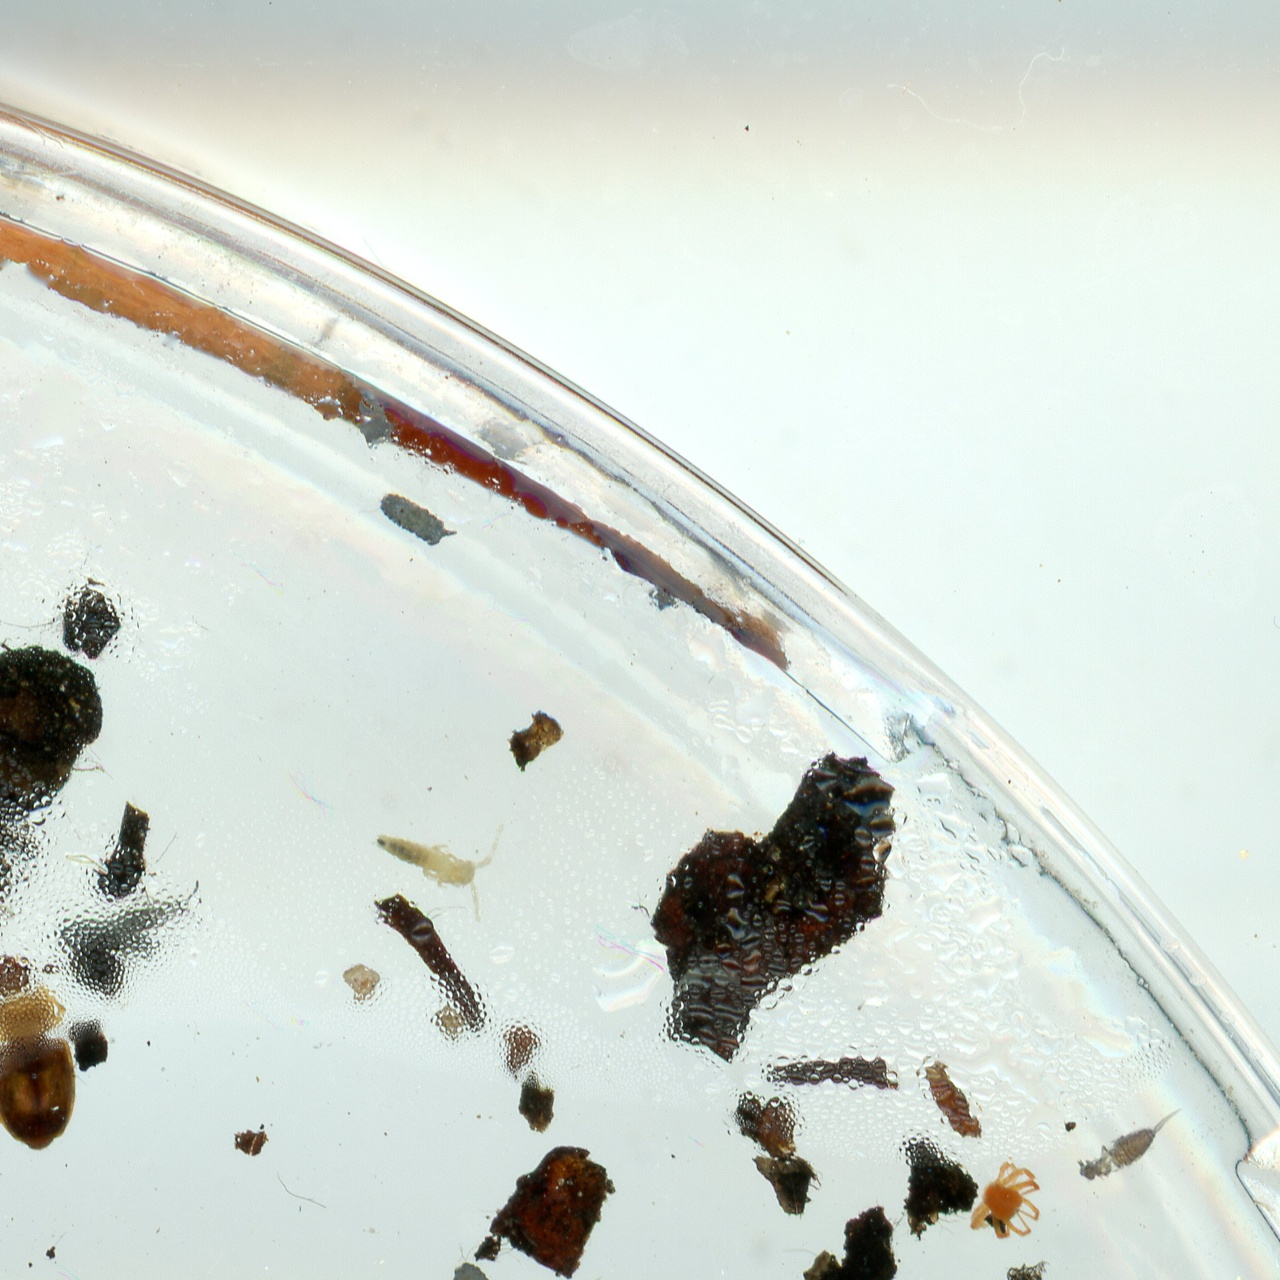arthropod: (354, 782, 515, 927), (0, 945, 80, 1177), (1067, 1092, 1201, 1196), (960, 1152, 1062, 1260), (365, 477, 470, 563), (438, 1248, 529, 1280)
